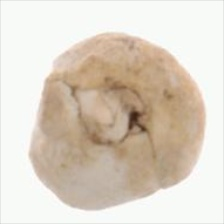L3: (69, 83, 149, 142)
L4: (27, 31, 206, 210)
